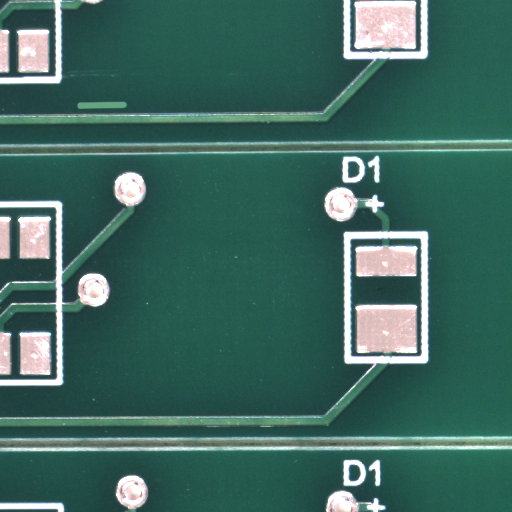Spurious_copper: (100, 104, 151, 116)
